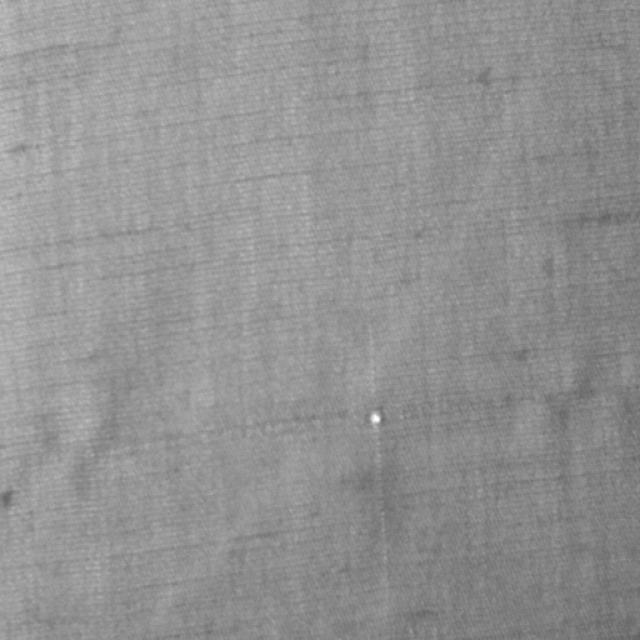hole: (367, 408, 382, 428)
